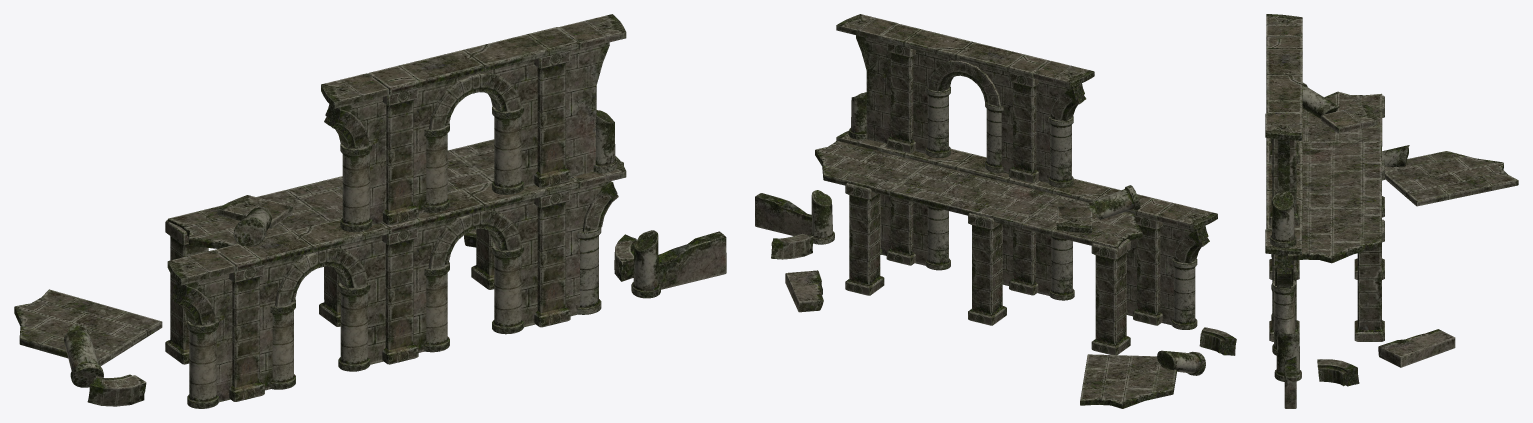
Rendered from ancient_ruins_modular_mr.glb.
3 renders of one model, left to right at view 1: azimuth 30°, elevation 25°; view 2: azimuth 150°, elevation 25°; view 3: azimuth 270°, elevation 25°, orthographic. The views are drawn at different scales.
Parts seen in each view (by area): view 1: Ruined_Structure_SM_lambert1_0; view 2: Ruined_Structure_SM_lambert1_0; view 3: Ruined_Structure_SM_lambert1_0.
Part boxes in pixels (left/top/right/bottom): Ruined_Structure_SM_lambert1_0: left=14, top=14, right=726, bottom=408; Ruined_Structure_SM_lambert1_0: left=755, top=14, right=1236, bottom=408; Ruined_Structure_SM_lambert1_0: left=1265, top=14, right=1518, bottom=408.
Bounding box in the file's own units: 1939 × 863 × 832.
Materials: 1 (1 with a texture image).
